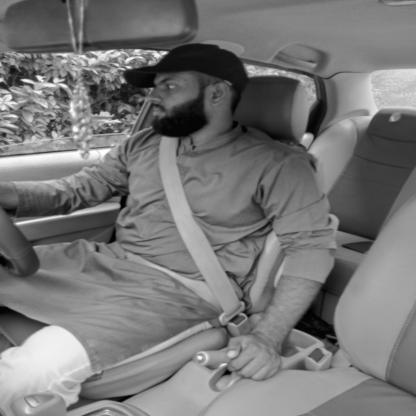seatbelt: (110, 36, 256, 263)
